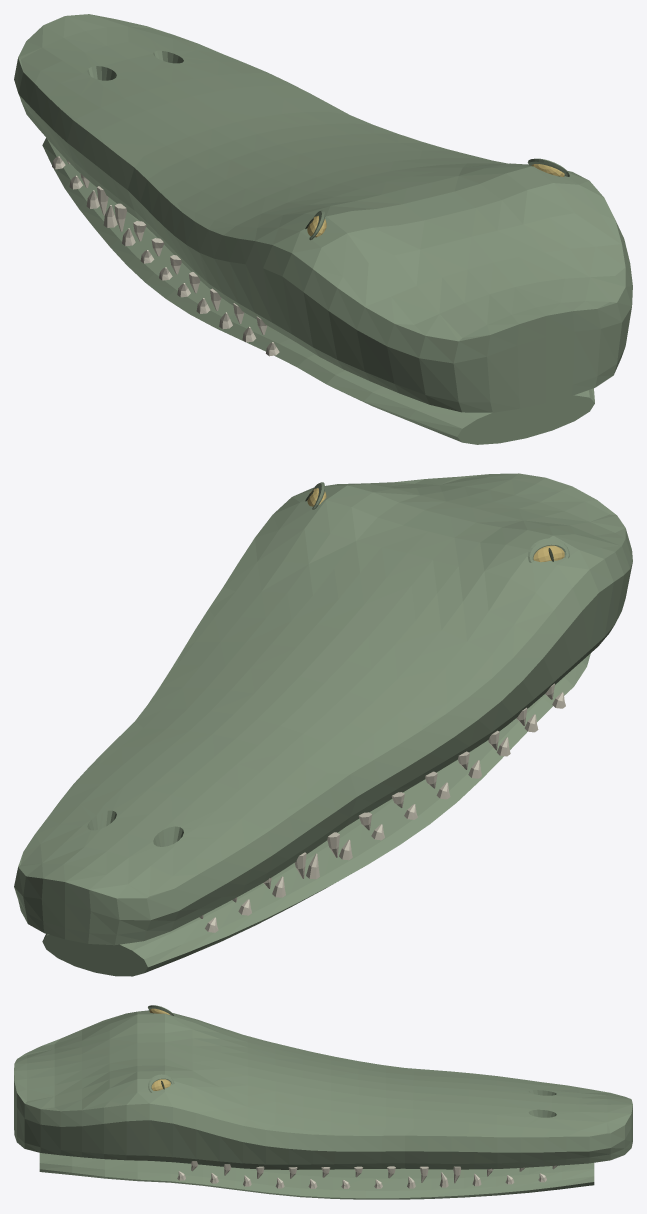
The model's file is croc_head_01.glb.
3 views of the same model, one above another, from view 1: azimuth 30°, elevation 25°; view 2: azimuth 150°, elevation 25°; view 3: azimuth 270°, elevation 25° (orthographic). The views are drawn at different scales.
Parts seen in each view (by area): view 1: Cranium, Jaw; view 2: Cranium, Jaw; view 3: Cranium, Jaw.
Part boxes in pixels (x1,y1,x2,y2): Cranium: (14, 14, 632, 412); Jaw: (42, 137, 594, 444); Cranium: (14, 473, 632, 945); Jaw: (42, 653, 590, 976); Cranium: (14, 1010, 632, 1169); Jaw: (39, 1153, 594, 1199).
Size of the model in its own units: 0.3677 by 0.2336 by 0.96.
